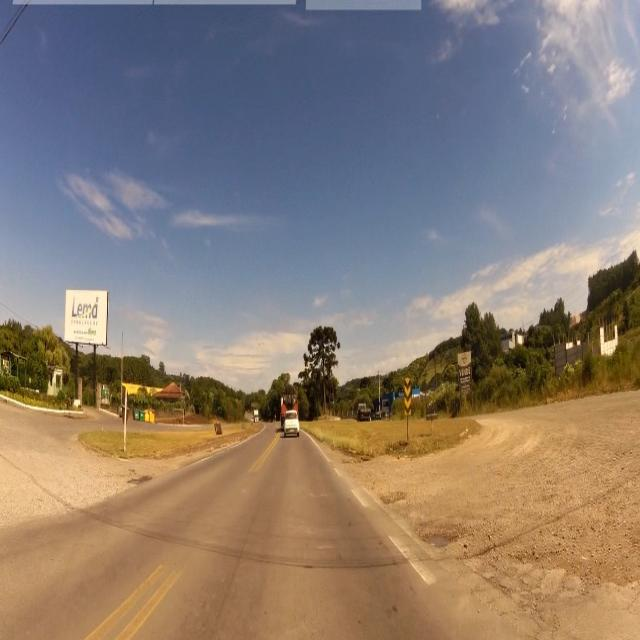MP: (402, 376, 412, 417)
